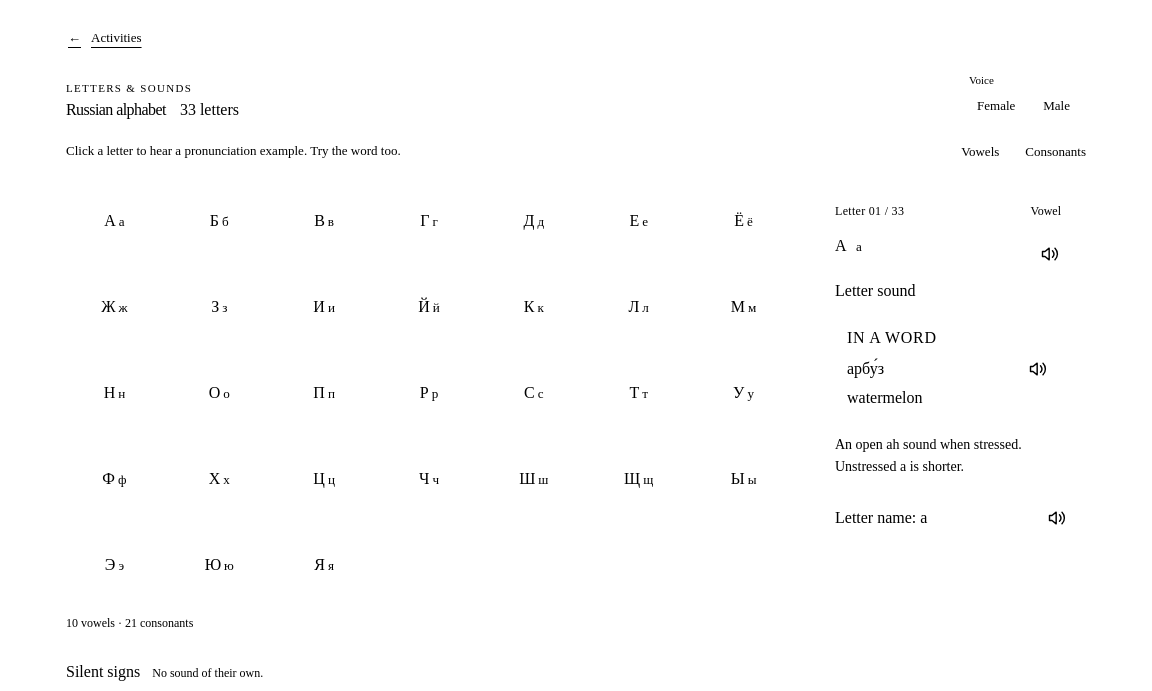
Scenario: Russian alphabet › labels the practice syllable for Б instead of presenting it as an isolated sound
What coordinates should you click on to do the following:
click the button named "Listen to syllable ба for Б б, consonant"
I would click on:
 (219, 221)
Its box is [171, 182, 268, 260].
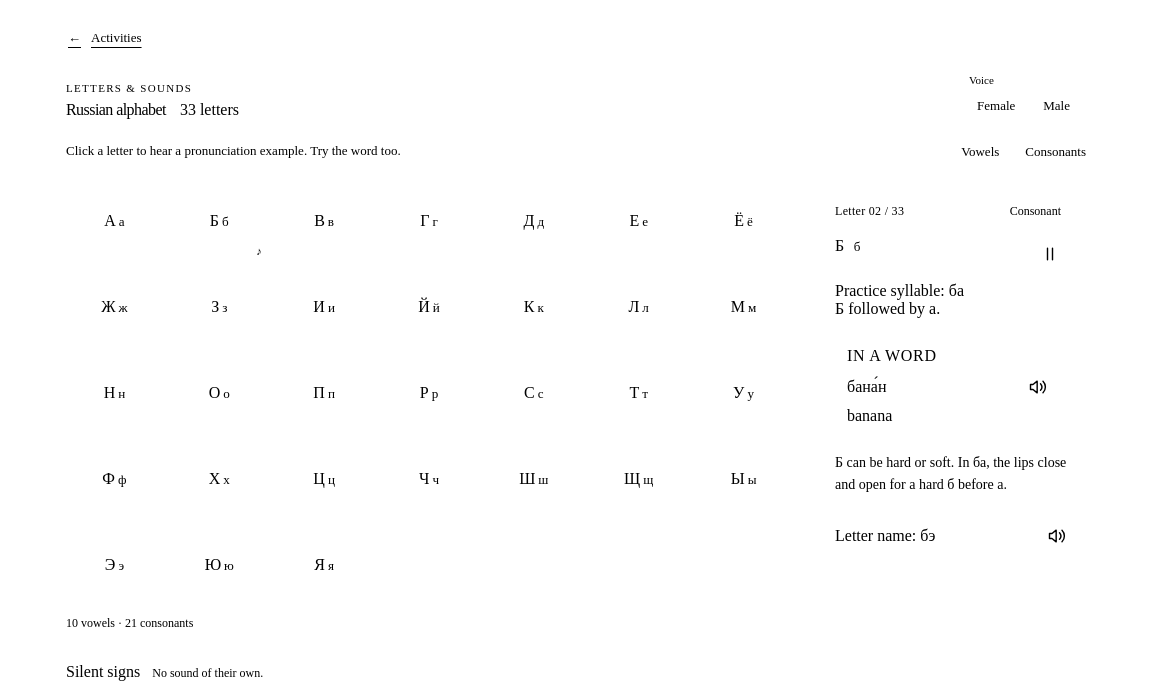
Expected: the button with aria-label "Listen to letter name:" is shown, [835, 512, 1067, 550]
Expected: the text "Letter sound" is gone
Expected: the button named "Stop syllable: ба" is shown, [835, 237, 1067, 271]
